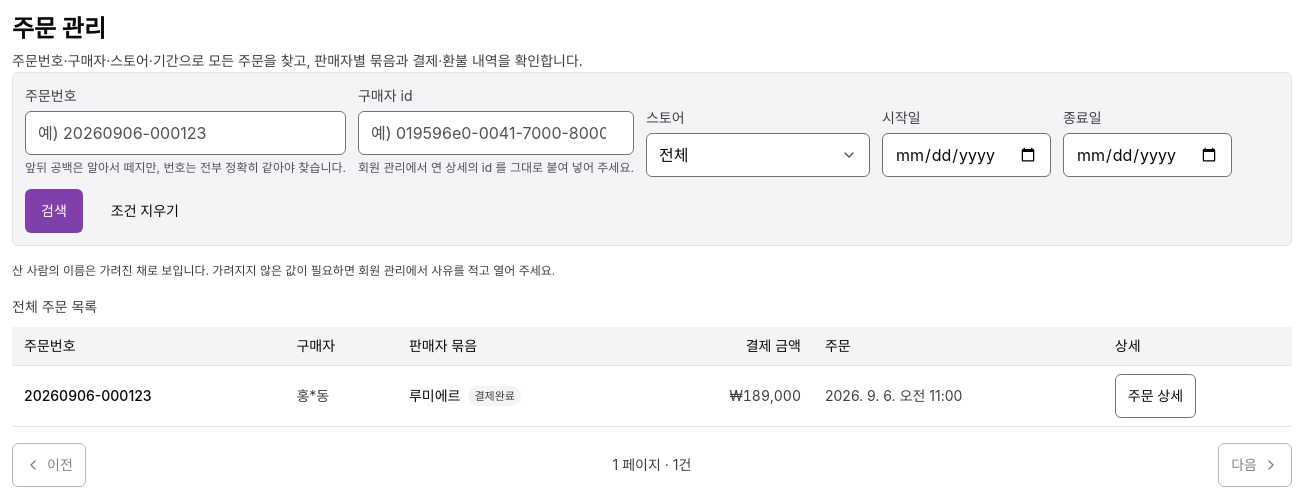
주문 검색 (F4) › says an empty result is the filter’s doing once something was narrowed
Expected: the table "전체 주문 목록" is shown, [12,296,1292,427]
Type "NOPE" into the search field labelled "주문번호" at [186, 133], box [25,111,346,155]
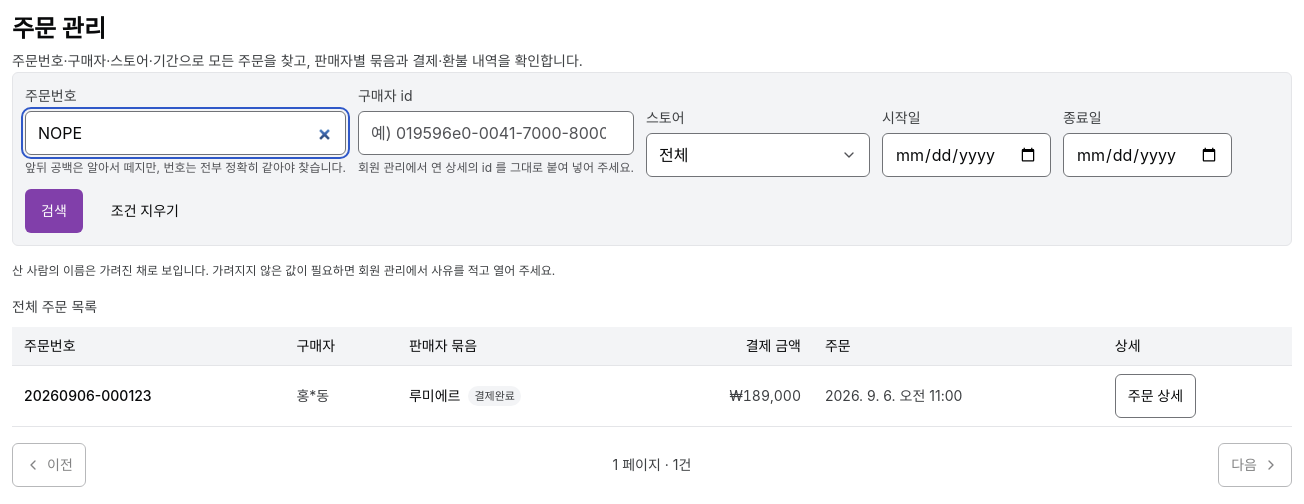
Click the button "검색" at [54, 211], box [25,189,83,233]
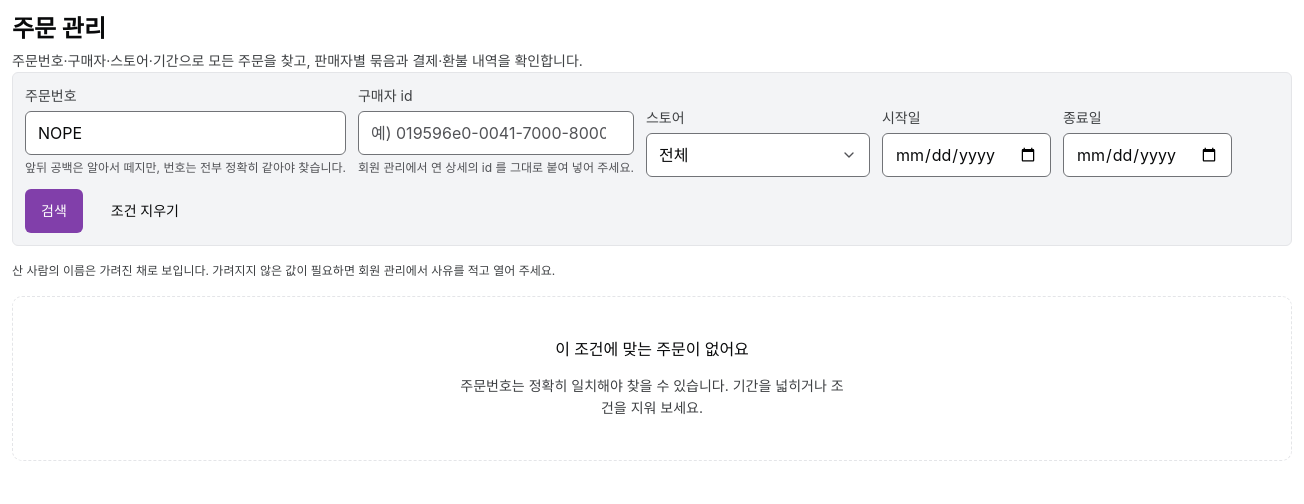
Expected: the text "이 조건에 맞는 주문이 없어요" is shown, [555,337,749,363]
